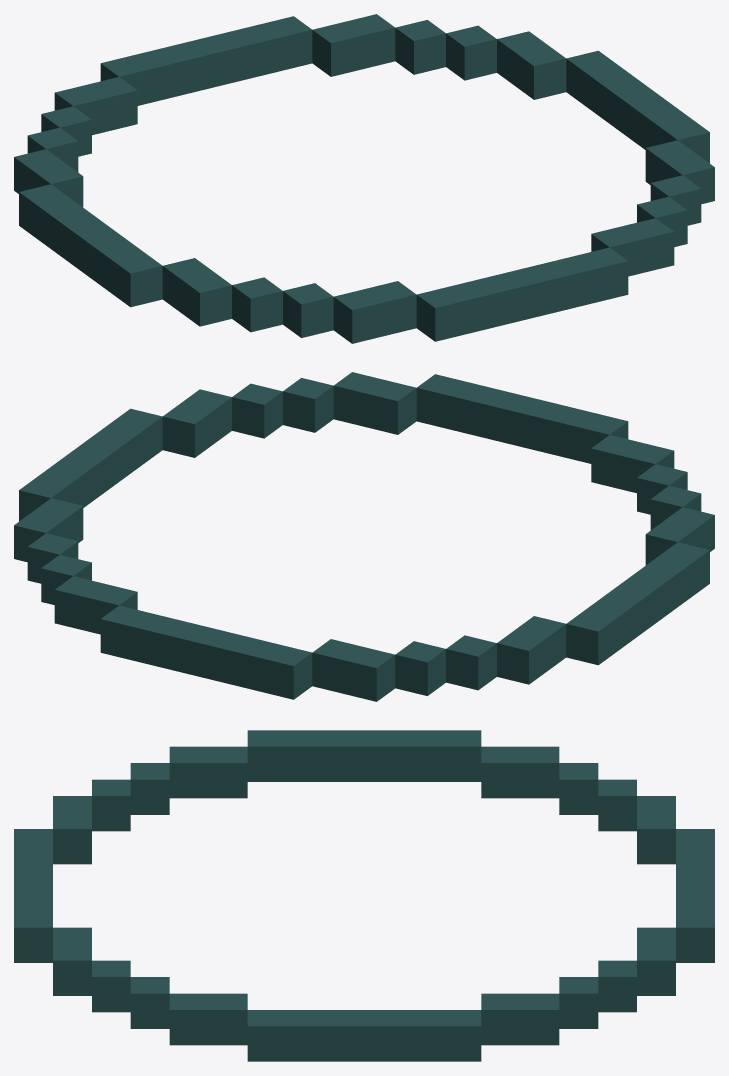
Rendered from Crystal_Ring_3.glb.
3 views of the same model, one above another, from view 1: azimuth 30°, elevation 25°; view 2: azimuth 150°, elevation 25°; view 3: azimuth 270°, elevation 25° (orthographic). The views are drawn at different scales.
Visible parts, largest first — view 1: Crystal_Ring_3; view 2: Crystal_Ring_3; view 3: Crystal_Ring_3.
Boxes of the visible parts, bbox=[...] form: Crystal_Ring_3: bbox=[14, 14, 714, 343]; Crystal_Ring_3: bbox=[14, 372, 714, 701]; Crystal_Ring_3: bbox=[14, 730, 714, 1061].
Bounding box in the file's own units: 0.45 × 0.025 × 0.45.
